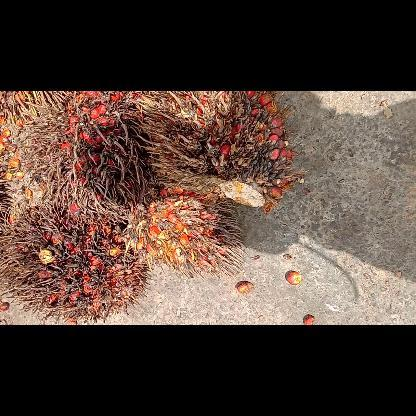Terlalu masak: (129, 90, 311, 218), (0, 196, 156, 324), (18, 91, 162, 227), (115, 172, 248, 284)
